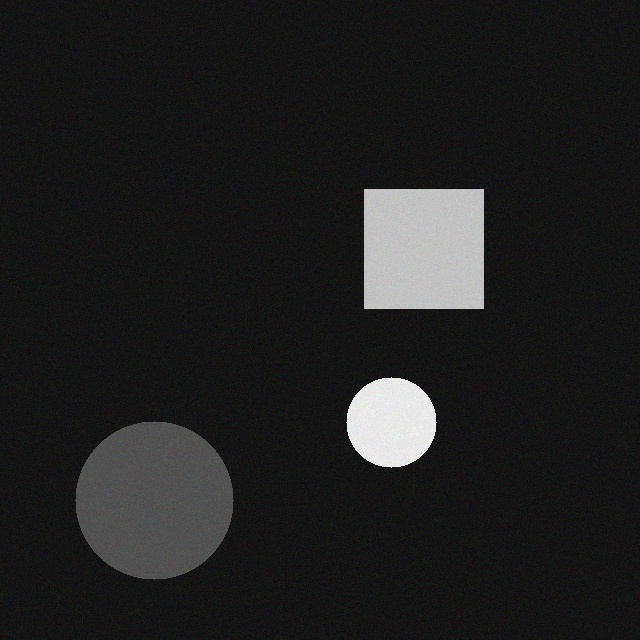circle: (90, 429, 248, 587), (361, 385, 451, 475)
square: (379, 197, 498, 316)
